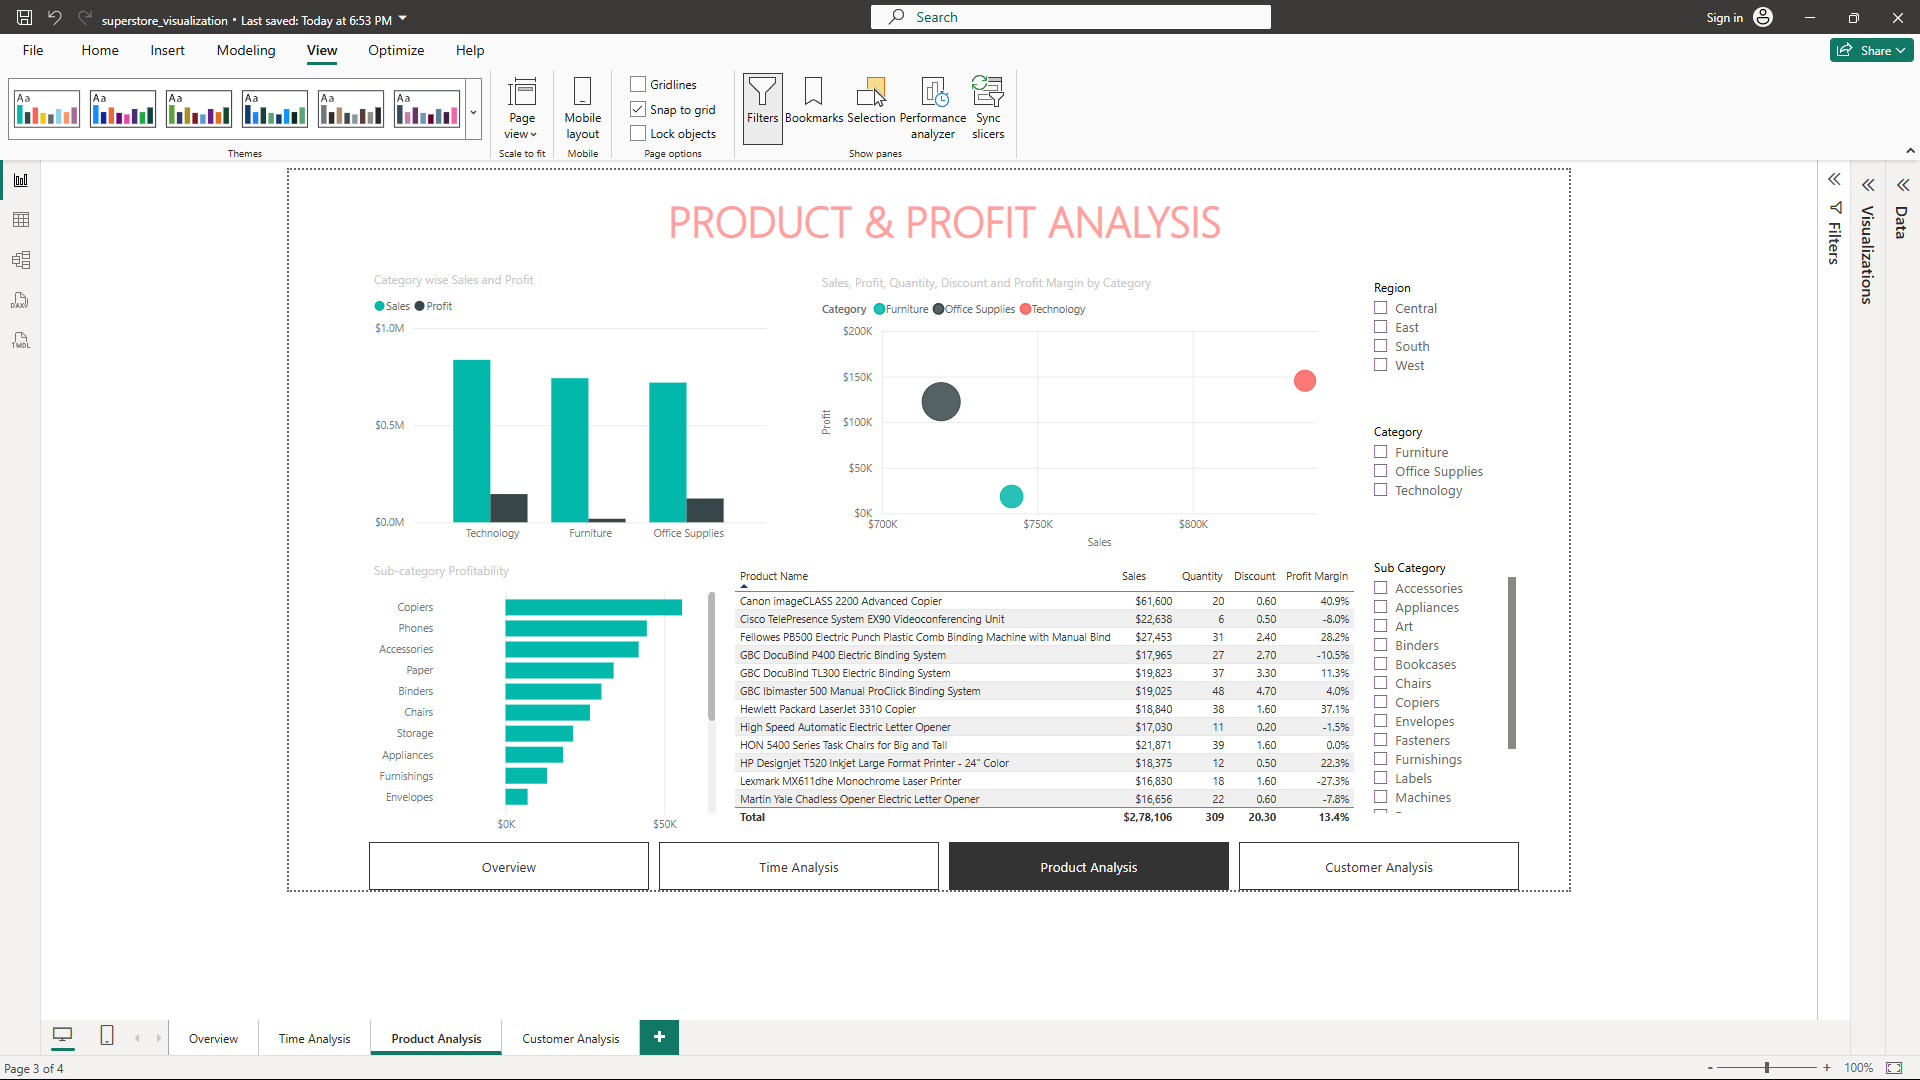

The page's visual inventory and layout, read from the dashboard file:
{"tool":"powerbi","page":{"name":"Product Analysis","canvas":[1280,720],"ordinal":2},"visuals":[{"type":"lineClusteredColumnComboChart","title":"Category wise Sales and Profit","fields":{"Category":["dim_product.category"],"Y":["Sum(fact_sales.sales)","Sum(fact_sales.profit)"]},"box":[80,100.7,403,280.5],"z":0},{"type":"barChart","title":"Sub-category Profitability","fields":{"Category":["dim_product.sub-category"],"Y":["Sum(fact_sales.profit)"]},"box":[80,392,352,280],"z":1000},{"type":"scatterChart","fields":{"X":["Sum(fact_sales.sales)"],"Y":["Sum(fact_sales.profit)"],"Size":["Sum(fact_sales.quantity)"],"Series":["dim_product.category"]},"box":[528,104,520,280],"z":2000},{"type":"slicer","fields":{"Values":["dim_product.sub-category"]},"box":[1072,384,160,264],"z":3000},{"type":"slicer","fields":{"Values":["dim_product.category"]},"box":[1072,248,144,96],"z":4000},{"type":"slicer","fields":{"Values":["fact_sales.region"]},"box":[1072,104,144,128],"z":5000},{"type":"tableEx","fields":{"Values":["dim_product.product_name","Sum(fact_sales.sales)","Sum(fact_sales.quantity)","Sum(fact_sales.discount)","fact_sales.Profit Margin"]},"box":[440,392,632,280],"z":6000},{"type":"textbox","box":[80,16,1152,72],"z":7000},{"type":"pageNavigator","box":[80,672,1152,48],"z":7001}]}

Visuals, with their boxes on the page's 1280x720 design canvas (x1, y1, x2, y2). These are canvas units, not pixel positions in the 1920x1080 screenshot, which may show the page scaled, cropped or inside an application window:
"Category wise Sales and Profit" lineClusteredColumnComboChart: 80,101,483,381
"Sub-category Profitability" barChart: 80,392,432,672
scatterChart - Sum(fact_sales.sales) x Sum(fact_sales.profit): 528,104,1048,384
slicer - dim_product.sub-category: 1072,384,1232,648
slicer - dim_product.category: 1072,248,1216,344
slicer - fact_sales.region: 1072,104,1216,232
tableEx - dim_product.product_name x Sum(fact_sales.sales): 440,392,1072,672
textbox: 80,16,1232,88
pageNavigator: 80,672,1232,720
